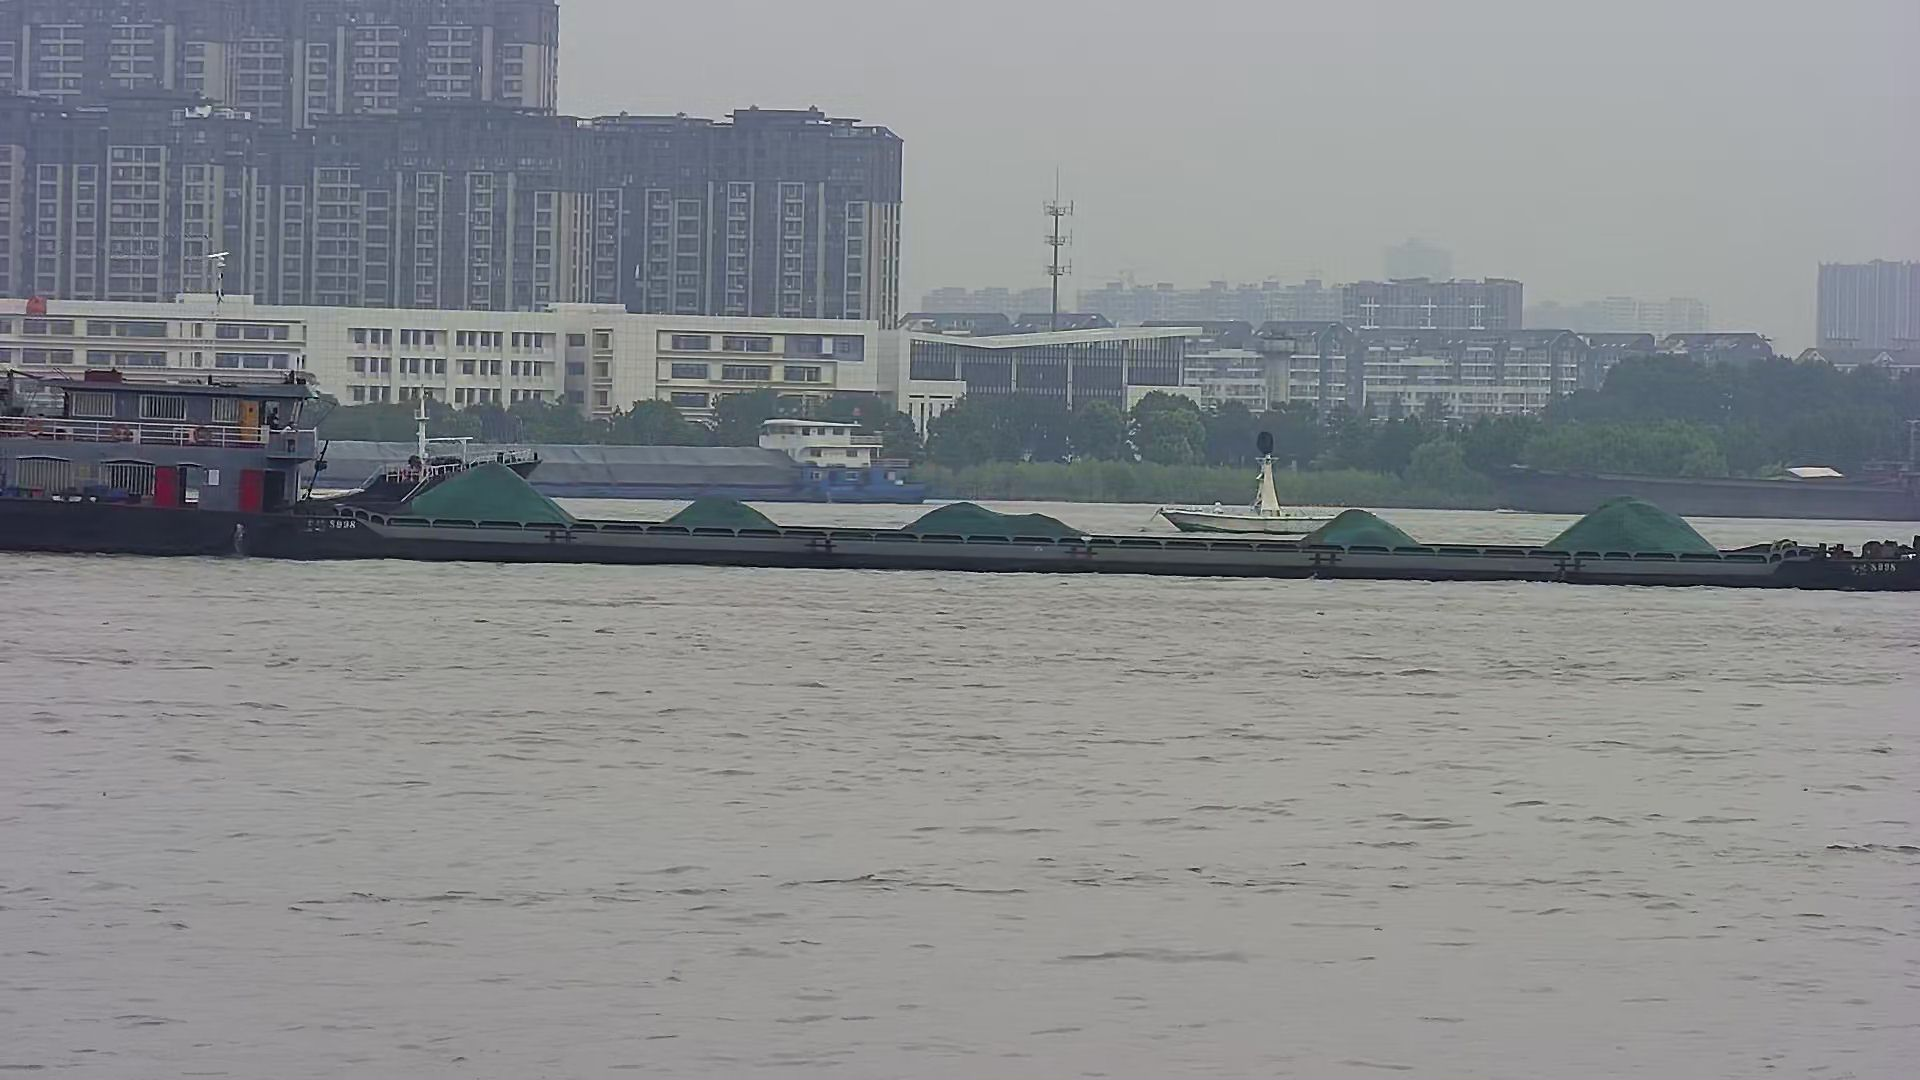boat: (1149, 427, 1389, 531)
ship: (1, 345, 1920, 582), (301, 380, 940, 506), (1457, 429, 1920, 531)
